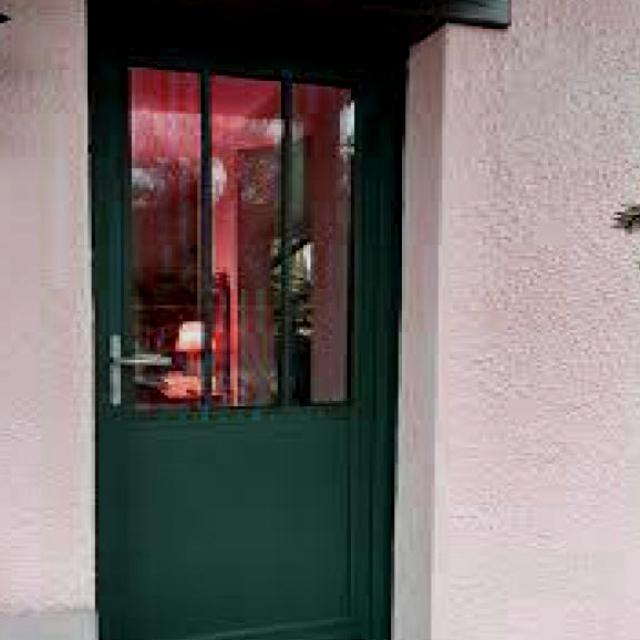door: (92, 46, 401, 638)
